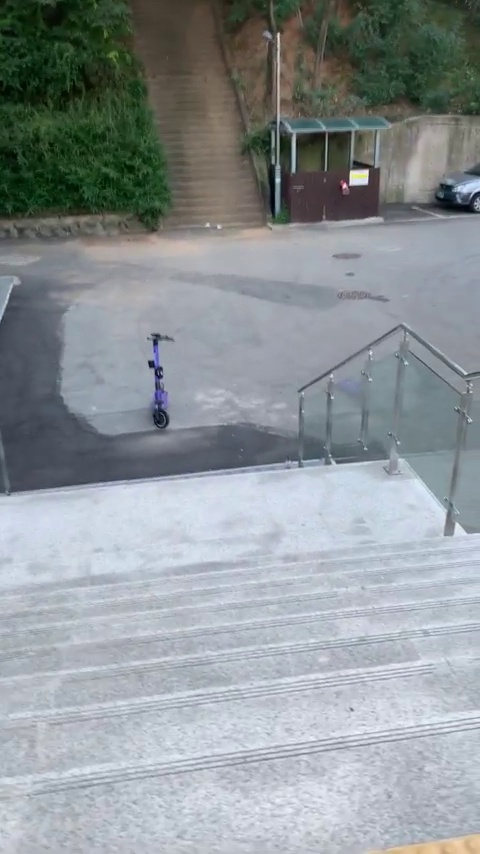beam: (140, 327, 185, 437)
